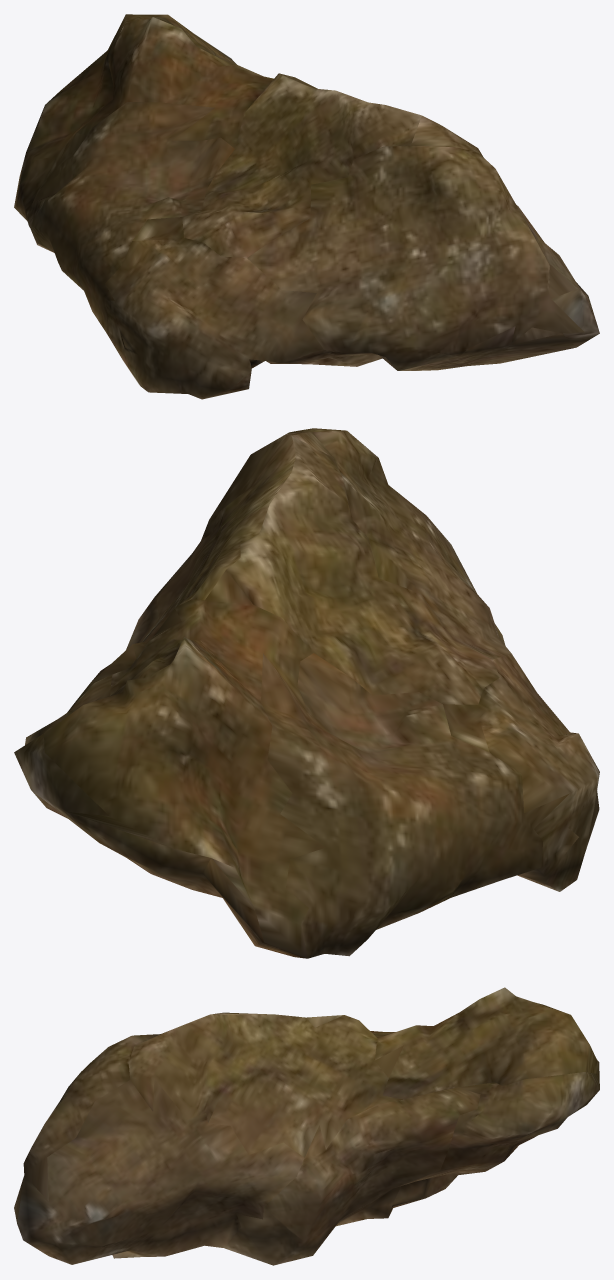
Rendered from rocks_1.gltf.
3 renders of one model, top to bottom at view 1: azimuth 30°, elevation 25°; view 2: azimuth 150°, elevation 25°; view 3: azimuth 270°, elevation 25°, orthographic. The views are drawn at different scales.
Parts seen in each view (by area): view 1: rock_moss_set_01_rock01; view 2: rock_moss_set_01_rock01; view 3: rock_moss_set_01_rock01.
Boxes of the visible parts, box(x1,y1,x2,y2) form: rock_moss_set_01_rock01: box(14, 14, 599, 399); rock_moss_set_01_rock01: box(14, 428, 599, 958); rock_moss_set_01_rock01: box(14, 987, 599, 1265).
Size of the model in its own units: 2.24 by 1.48 by 3.36.
1 material, 1 textured.
